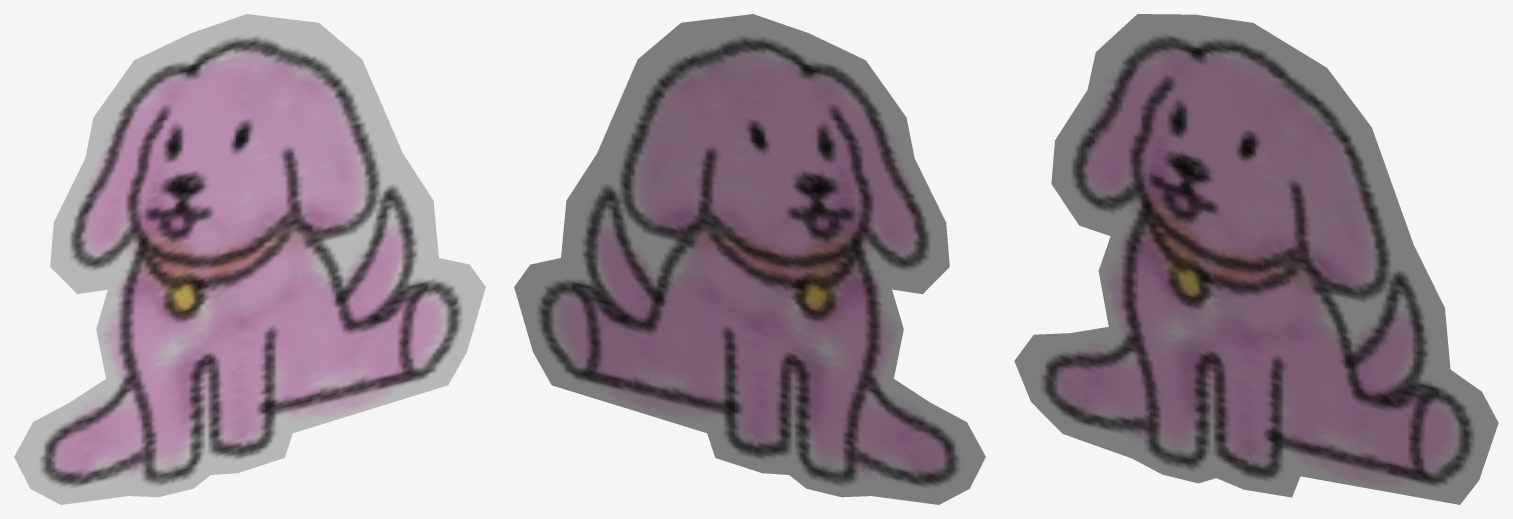
The model's file is Hund.fbx.
3 views of the same model, side by side, from view 1: azimuth 30°, elevation 25°; view 2: azimuth 150°, elevation 25°; view 3: azimuth 330°, elevation 25° (orthographic). The views are drawn at different scales.
Parts seen in each view (by area): view 1: Hund; view 2: Hund; view 3: Hund.
Boxes of the visible parts, x1,y1,x2,y2 form: Hund: [14, 14, 485, 504]; Hund: [514, 14, 985, 504]; Hund: [1014, 14, 1498, 504].
Bounding box in the file's own units: 35.45 × 33.15 × 5.4e-06.
1 material, 1 textured.
